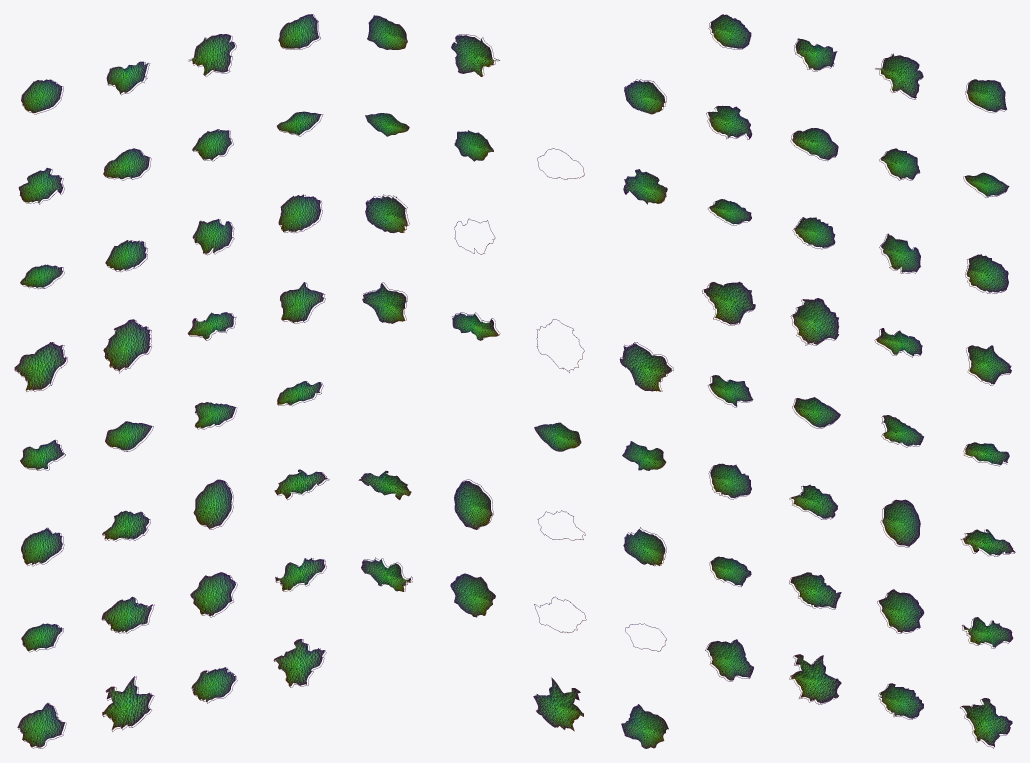
File: rocks.glb
3 renders of one model, left to right at view 1: azimuth 30°, elevation 25°; view 2: azimuth 150°, elevation 25°; view 3: azimuth 330°, elevation 25°, orthographic.
Parts seen in each view (by area): view 1: Rock_17, Rock_16, Rock_1, Rock_10, Rock_6, Rock_3, Rock_0, Rock_30, Rock_23, Rock_5, Rock_19, Rock_8 (+20 smaller); view 2: Rock_16, Rock_1, Rock_10, Rock_6, Rock_30, Rock_0, Rock_23, Rock_19, Rock_8, Rock_28, Rock_31, Rock_24 (+7 smaller); view 3: Rock_17, Rock_16, Rock_1, Rock_10, Rock_6, Rock_3, Rock_0, Rock_30, Rock_23, Rock_5, Rock_19, Rock_8 (+20 smaller).
Part boxes in pixels (bbox=[...]): Rock_17: bbox=[103, 319, 151, 373]; Rock_16: bbox=[14, 342, 67, 391]; Rock_1: bbox=[102, 676, 154, 731]; Rock_10: bbox=[193, 479, 233, 529]; Rock_6: bbox=[190, 572, 237, 617]; Rock_3: bbox=[273, 639, 326, 687]; Rock_0: bbox=[17, 703, 66, 748]; Rock_30: bbox=[188, 34, 236, 76]; Rock_23: bbox=[278, 194, 322, 232]; Rock_5: bbox=[101, 596, 154, 633]; Rock_19: bbox=[280, 282, 325, 323]; Rock_8: bbox=[21, 527, 64, 566]; Rock_16: bbox=[619, 342, 673, 391]; Rock_1: bbox=[533, 677, 583, 731]; Rock_10: bbox=[454, 479, 493, 529]; Rock_6: bbox=[450, 573, 495, 617]; Rock_30: bbox=[451, 34, 499, 76]; Rock_0: bbox=[621, 704, 668, 748]; Rock_23: bbox=[365, 194, 409, 233]; Rock_19: bbox=[362, 282, 407, 323]; Rock_8: bbox=[623, 527, 666, 566]; Rock_28: bbox=[624, 79, 666, 114]; Rock_31: bbox=[367, 15, 407, 49]; Rock_24: bbox=[623, 169, 667, 204]; Rock_17: bbox=[790, 298, 839, 345]; Rock_16: bbox=[702, 281, 755, 325]; Rock_1: bbox=[789, 654, 841, 704]; Rock_10: bbox=[880, 499, 920, 547]; Rock_6: bbox=[877, 589, 924, 633]; Rock_3: bbox=[960, 698, 1012, 748]; Rock_0: bbox=[705, 639, 753, 681]; Rock_30: bbox=[875, 53, 923, 99]; Rock_23: bbox=[965, 254, 1008, 293]; Rock_5: bbox=[789, 572, 841, 609]; Rock_19: bbox=[966, 345, 1011, 385]; Rock_8: bbox=[708, 463, 751, 499].
Bounding box in the file's own units: 14.61 × 29.92 × 0.1.
